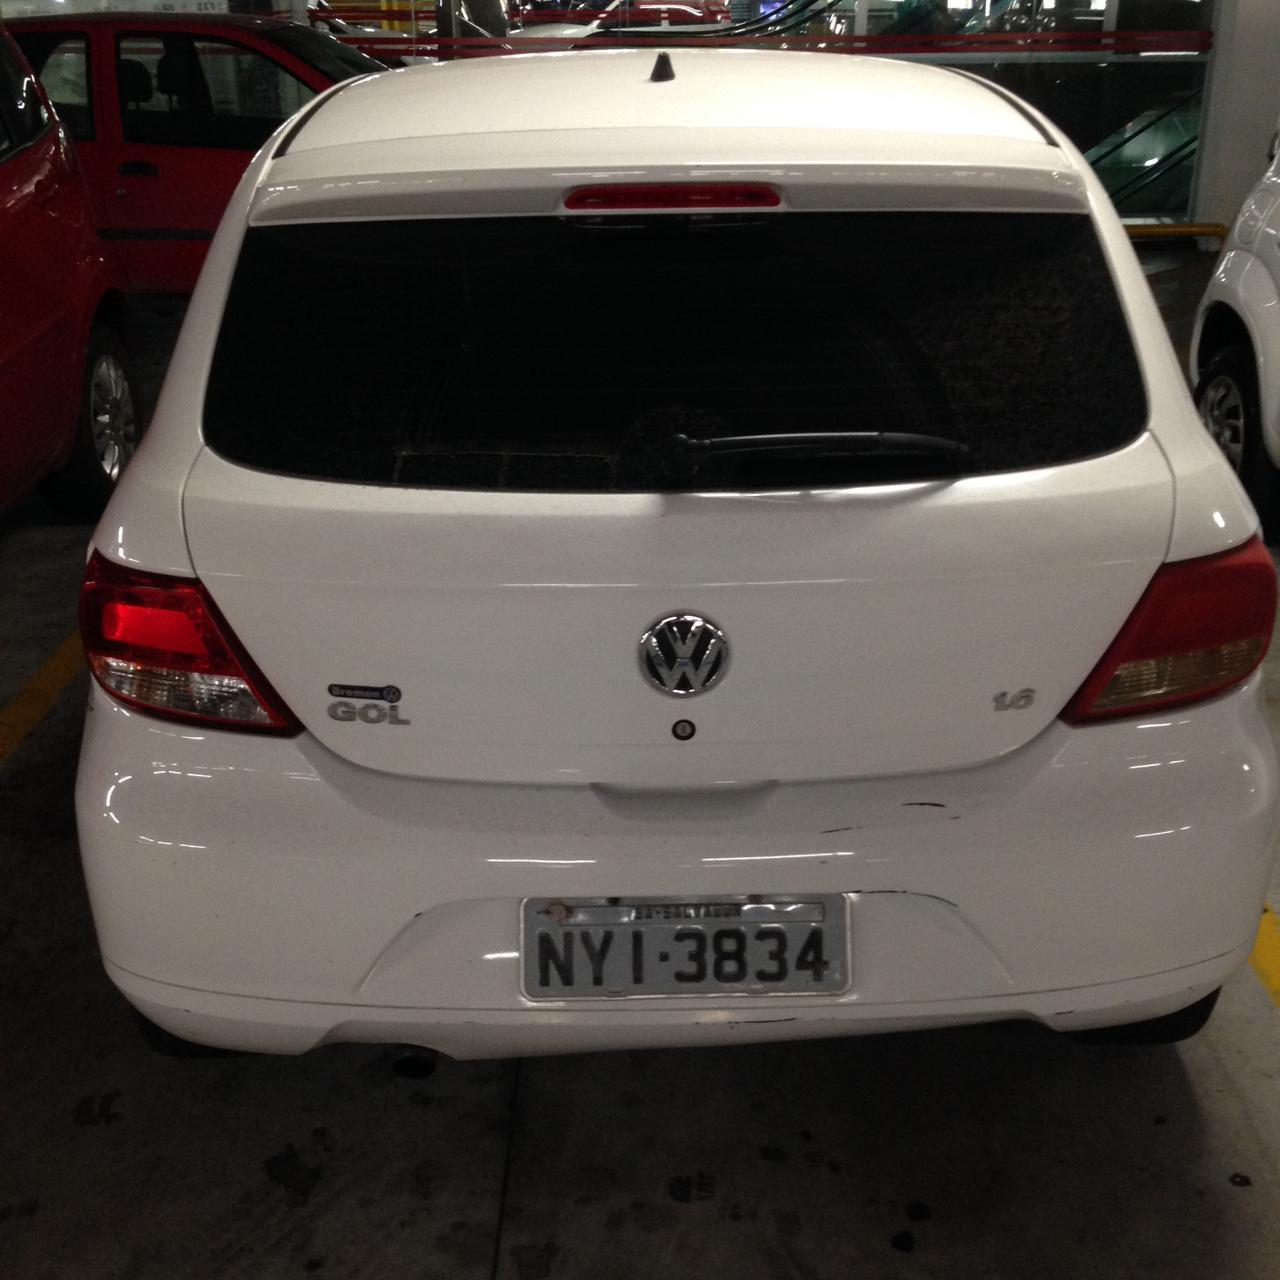placa de veiculo: (504, 862, 878, 1053)
